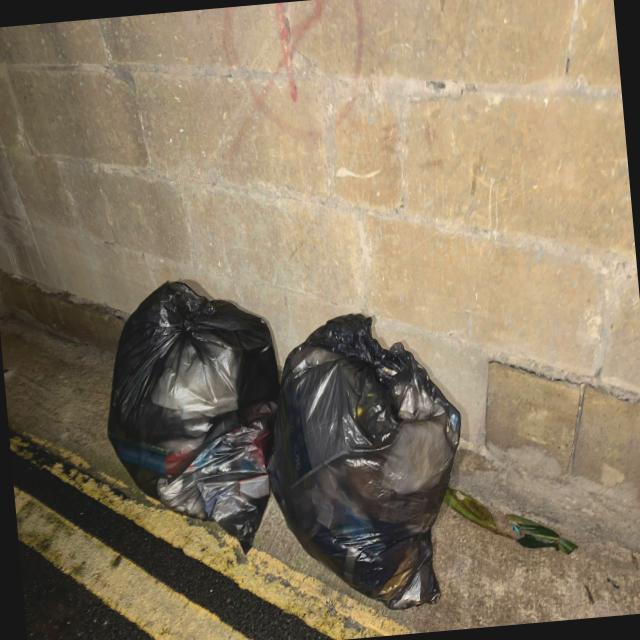black_bag: (254, 299, 482, 629), (93, 264, 294, 586)
